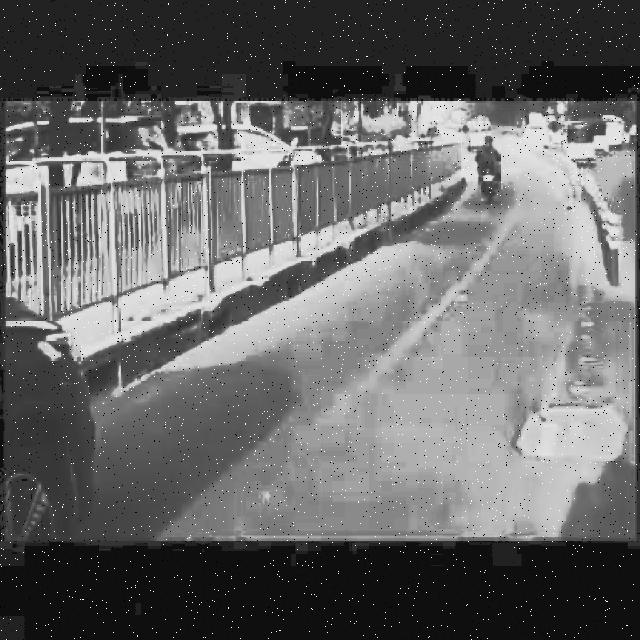Car: (0, 289, 116, 560), (6, 94, 188, 201), (191, 118, 329, 181)
